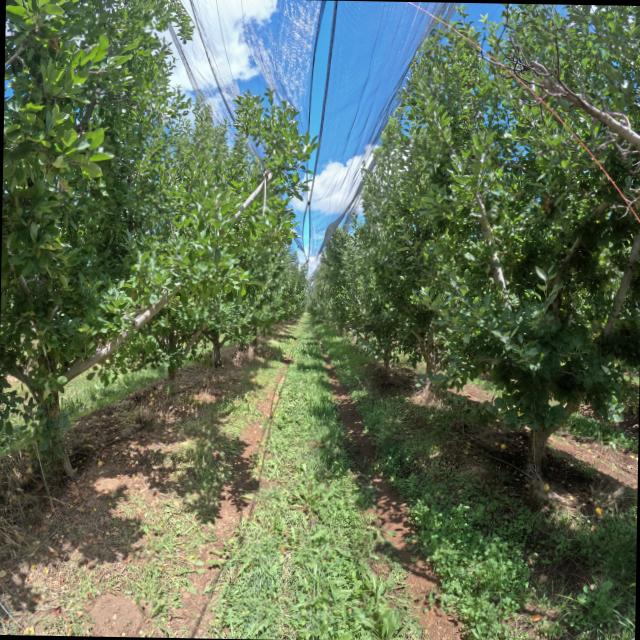-FireBlight-: (540, 194, 551, 220)
